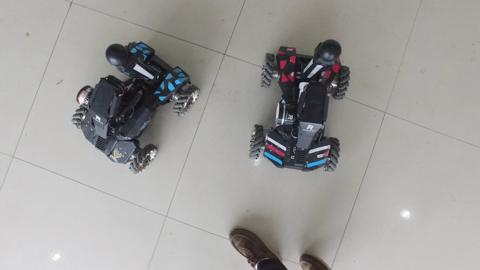chariot: (65, 37, 207, 183), (245, 37, 360, 181)
